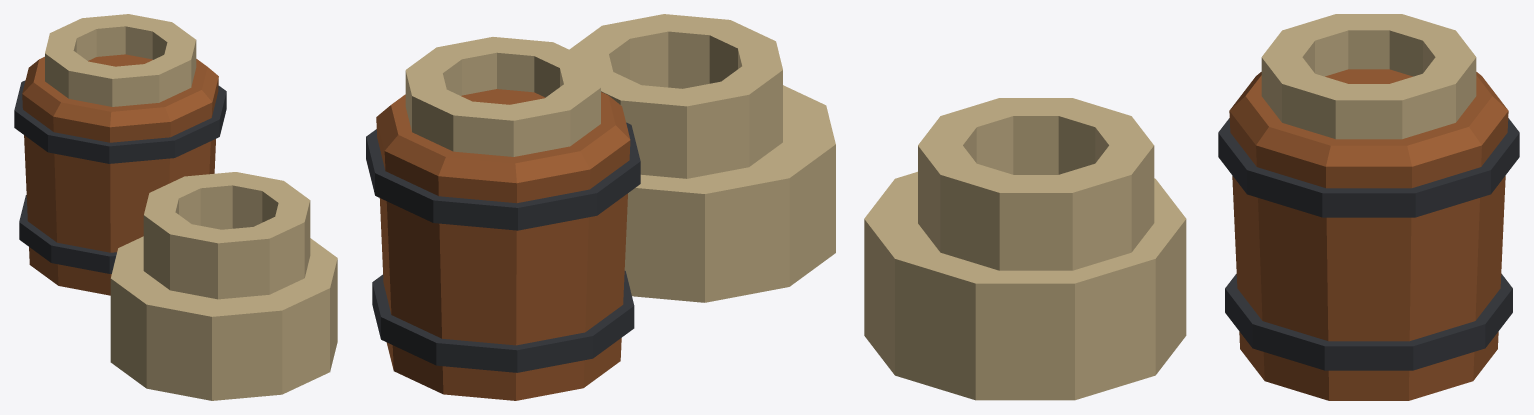
The model's file is HarpoonKit6.obj.
3 renders of one model, left to right at view 1: azimuth 30°, elevation 25°; view 2: azimuth 150°, elevation 25°; view 3: azimuth 270°, elevation 25°, orthographic. The views are drawn at different scales.
Visible parts, largest first — view 1: HarpoonKit6; view 2: HarpoonKit6; view 3: HarpoonKit6.
Part boxes in pixels (x1,y1,x2,y2): HarpoonKit6: (14,14,337,400); HarpoonKit6: (366,14,835,400); HarpoonKit6: (864,14,1519,400).
Bounding box in the file's own units: 0.3062 × 0.3 × 0.6104.
